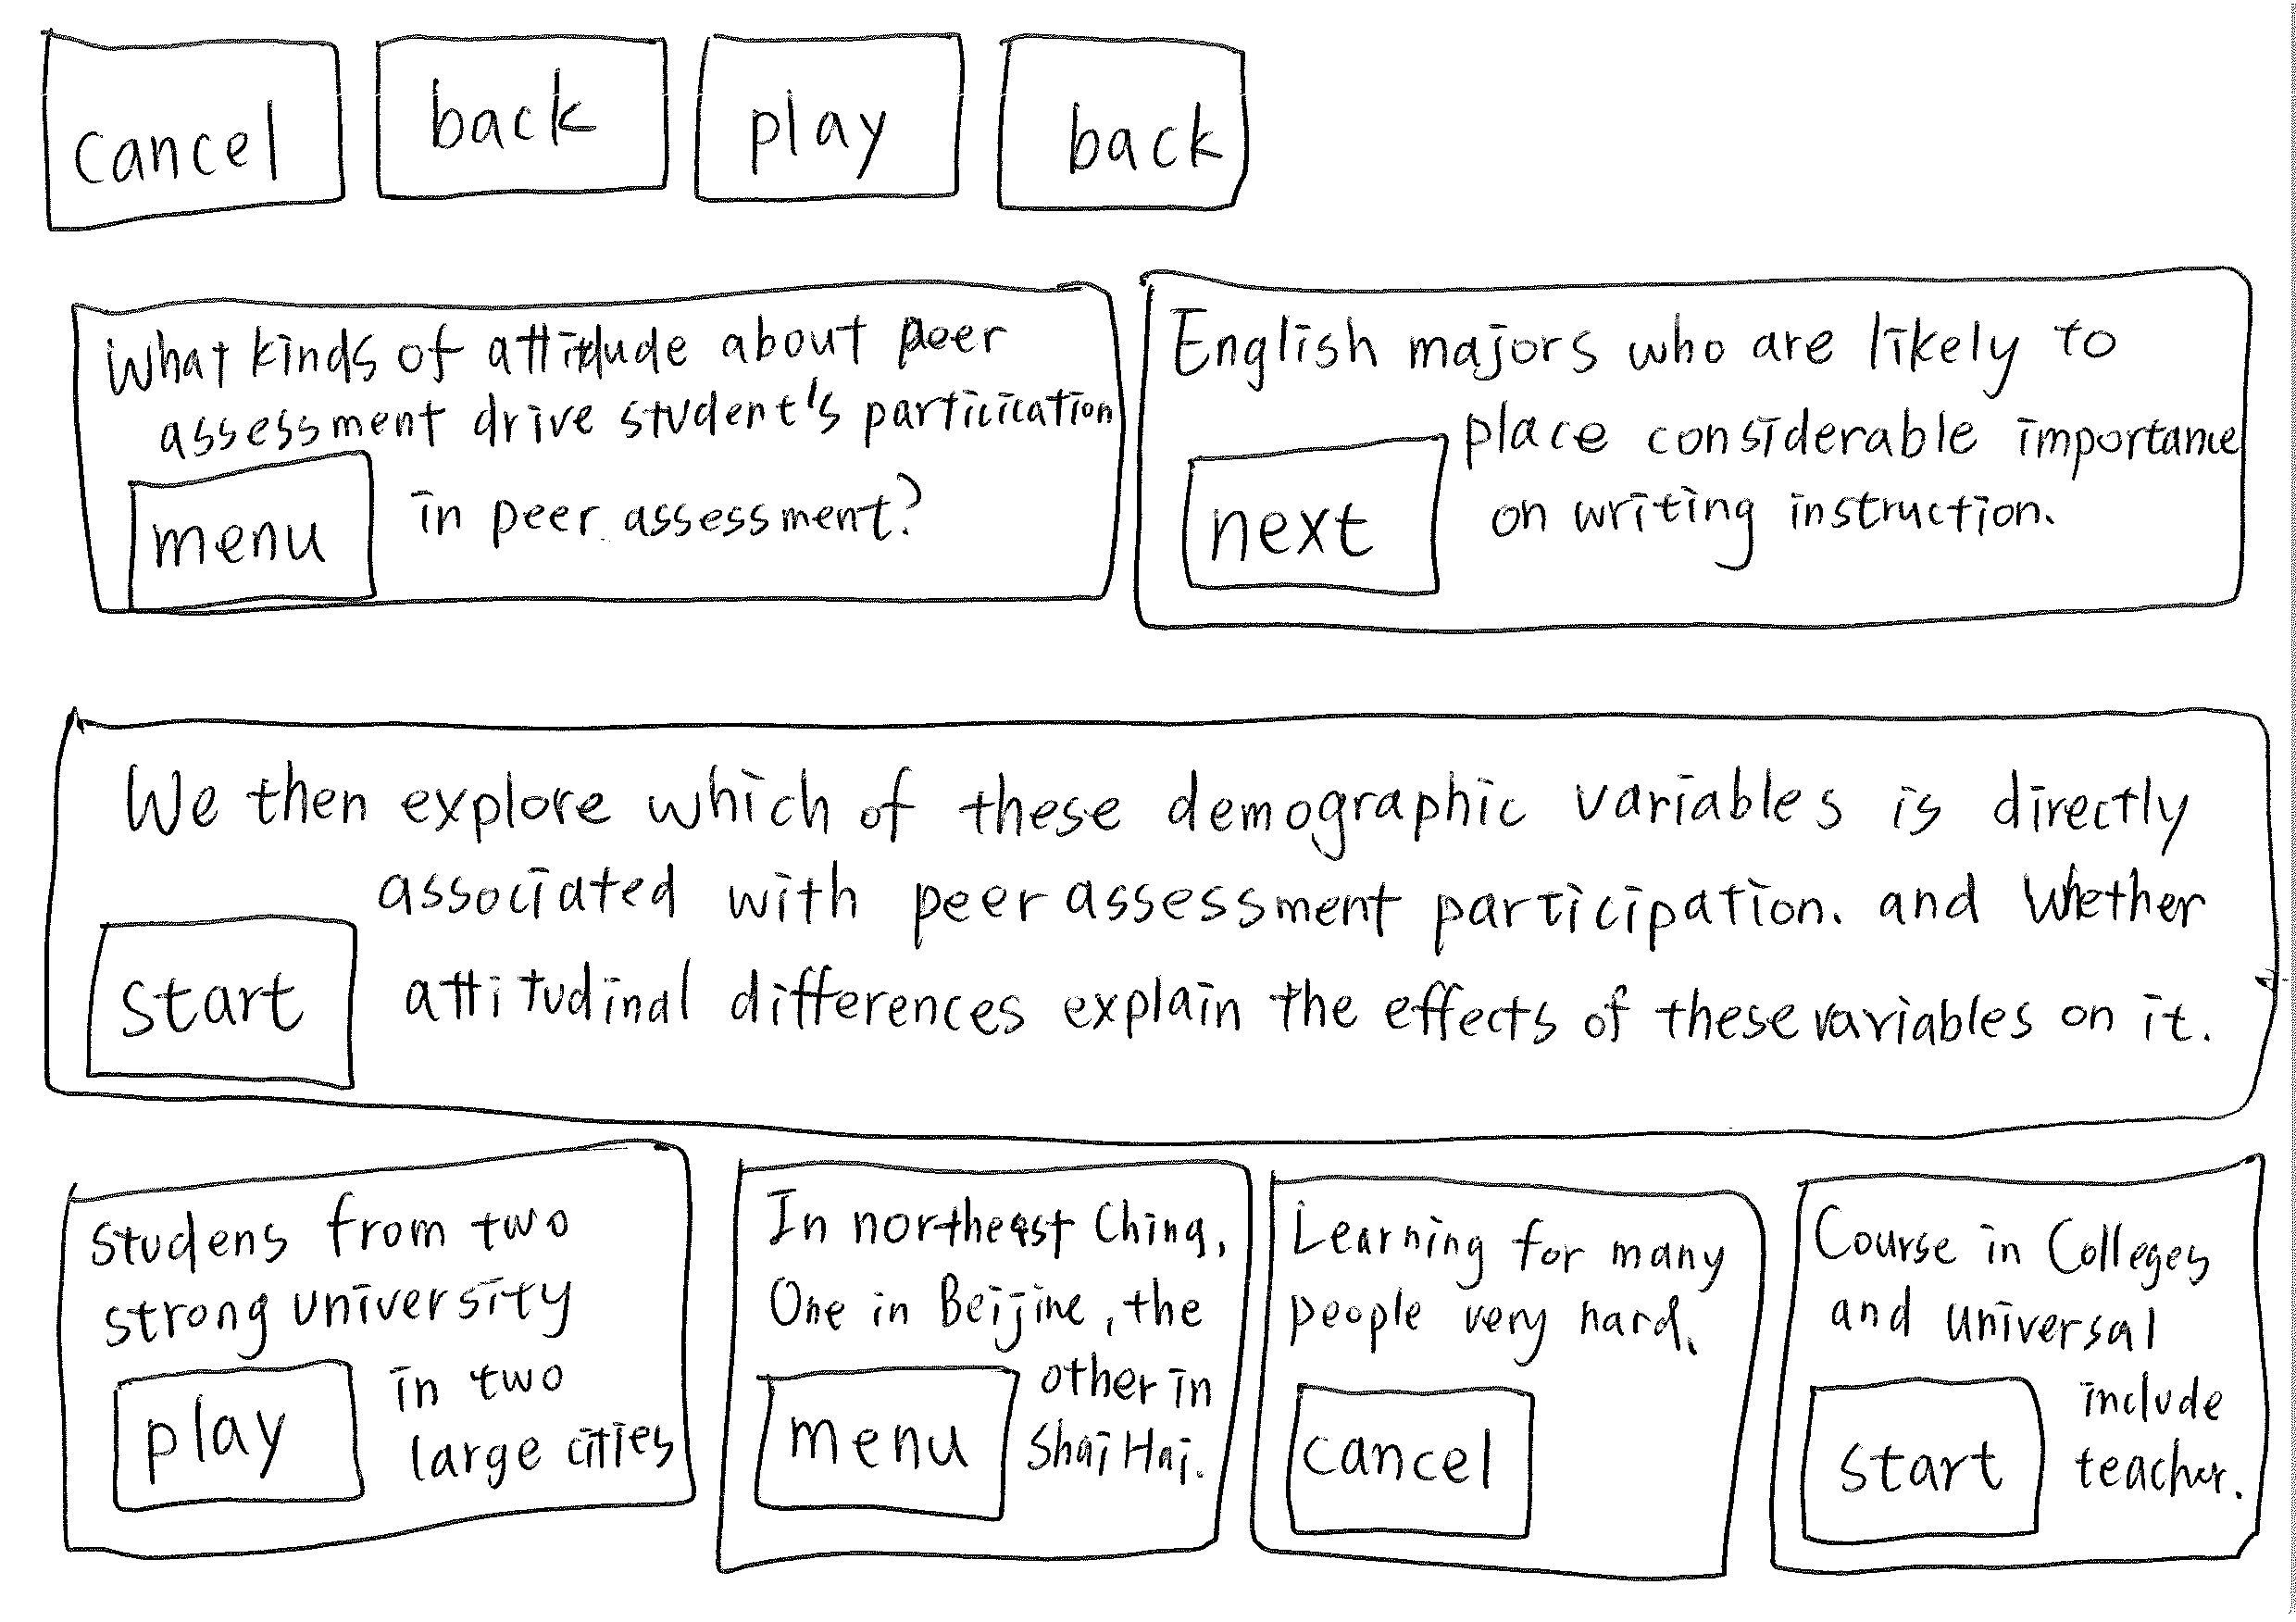back: (972, 4, 1292, 260), (348, 7, 681, 233)
cancel: (23, 7, 355, 258), (1269, 1366, 1555, 1569)
double: (1123, 248, 2287, 662), (46, 251, 1136, 671)
menu: (746, 1346, 1025, 1543), (98, 448, 393, 630)
next: (1160, 421, 1466, 623)
play: (683, 9, 974, 225), (93, 1329, 369, 1536)
quadruple: (33, 1122, 697, 1597), (697, 1143, 1280, 1618), (1216, 1146, 1799, 1622), (1752, 1146, 2296, 1622)
row: (9, 683, 2296, 1146), (9, 1129, 2296, 1592), (9, 244, 2296, 683), (9, 4, 2296, 260)
single: (25, 681, 2296, 1157)
small-title: (133, 739, 2180, 858), (116, 312, 1090, 437), (1176, 298, 2152, 405), (760, 1169, 1213, 1267), (84, 1190, 581, 1262)
start: (79, 878, 379, 1139), (1787, 1357, 2061, 1561)
text: (409, 858, 2205, 1059), (1464, 409, 2191, 562), (432, 455, 969, 571), (1815, 1204, 2215, 1352), (1309, 1215, 1717, 1352), (400, 1327, 637, 1489), (100, 1269, 581, 1341), (1041, 1290, 1204, 1483), (748, 1274, 1204, 1336), (2077, 1378, 2247, 1522)
